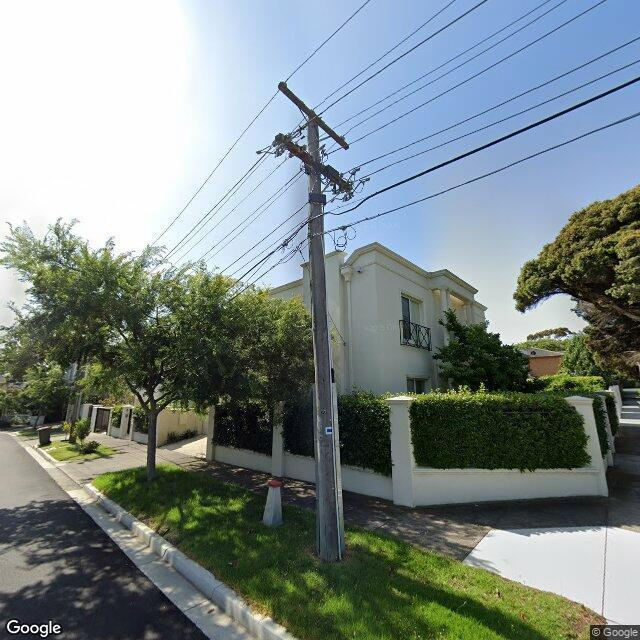crossarm: (255, 128, 371, 202), (278, 81, 350, 151)
timber-pole: (308, 116, 345, 561)
